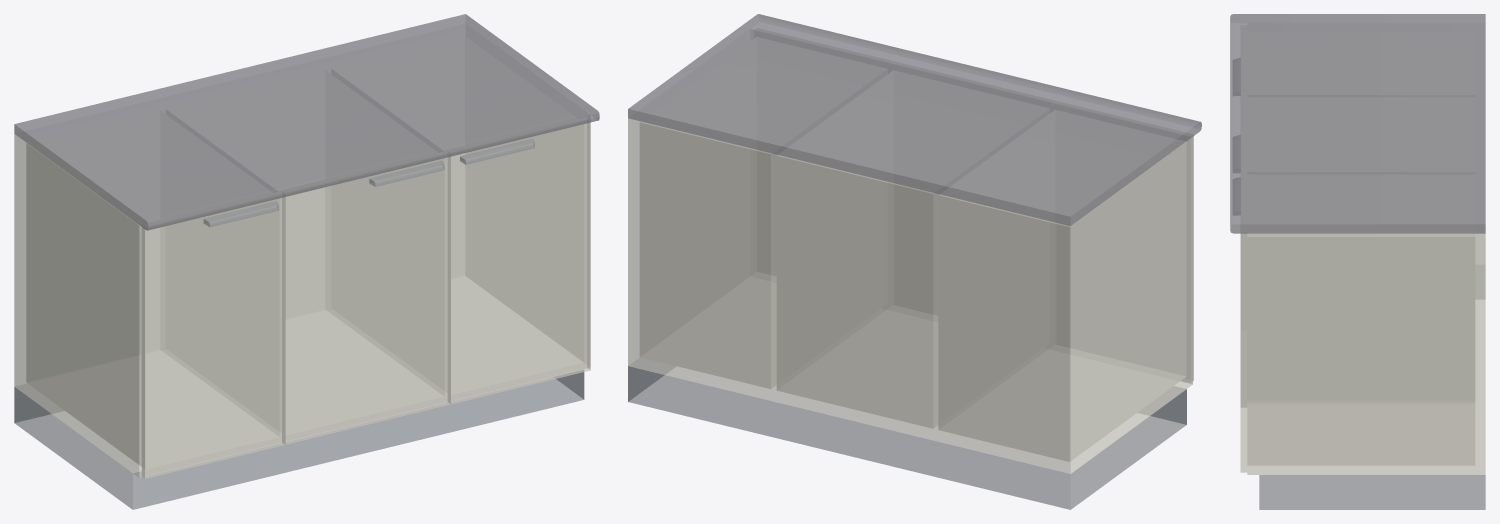
File: SM_Workbench.FBX
3 renders of one model, left to right at view 1: azimuth 30°, elevation 25°; view 2: azimuth 150°, elevation 25°; view 3: azimuth 270°, elevation 25°, orthographic. The views are drawn at different scales.
Parts seen in each view (by area): view 1: Workbench_LOD0; view 2: Workbench_LOD0; view 3: Workbench_LOD0.
Boxes of the visible parts, box(x1,y1,x2,y2) form: Workbench_LOD0: box(14, 14, 599, 509); Workbench_LOD0: box(628, 14, 1201, 509); Workbench_LOD0: box(1230, 14, 1485, 509).
Bounding box in the file's own units: 1.42 × 0.8989 × 0.7292.
